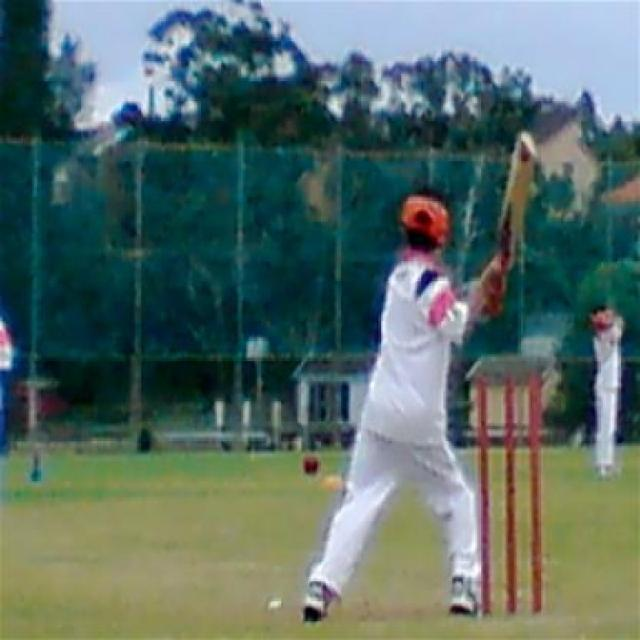-: (293, 430, 324, 488)
